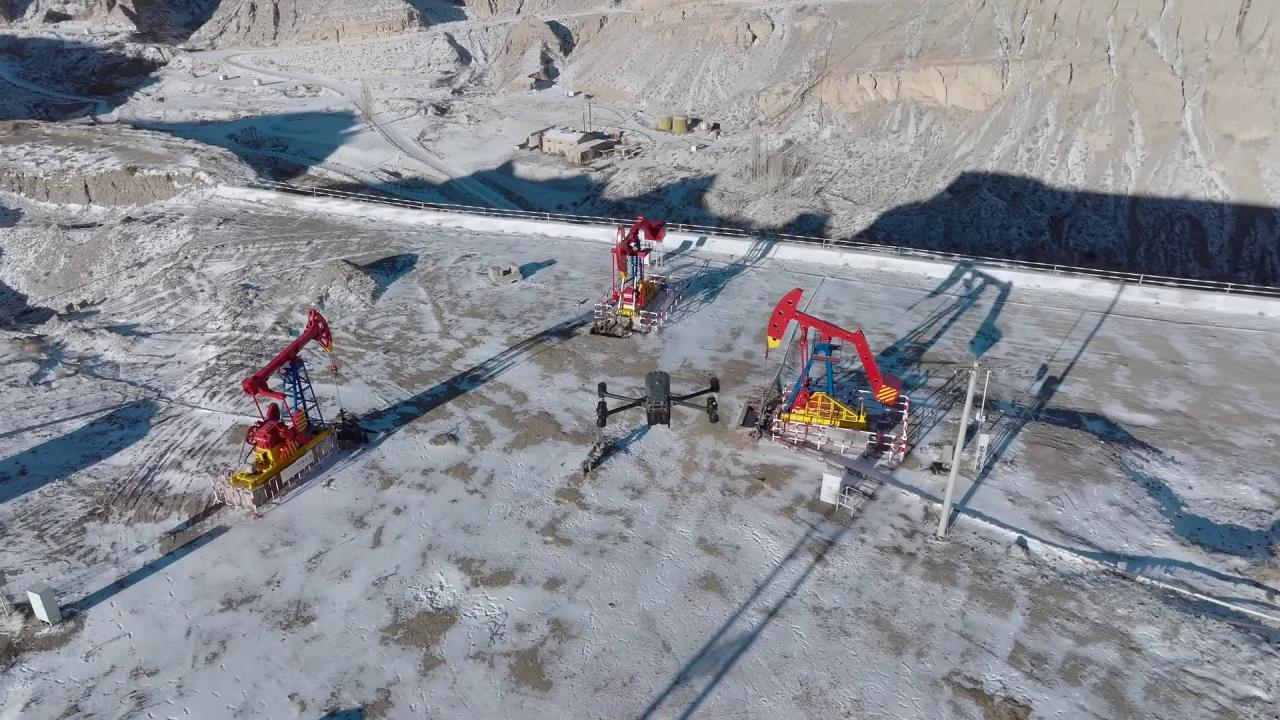Drone: (581, 360, 734, 440)
